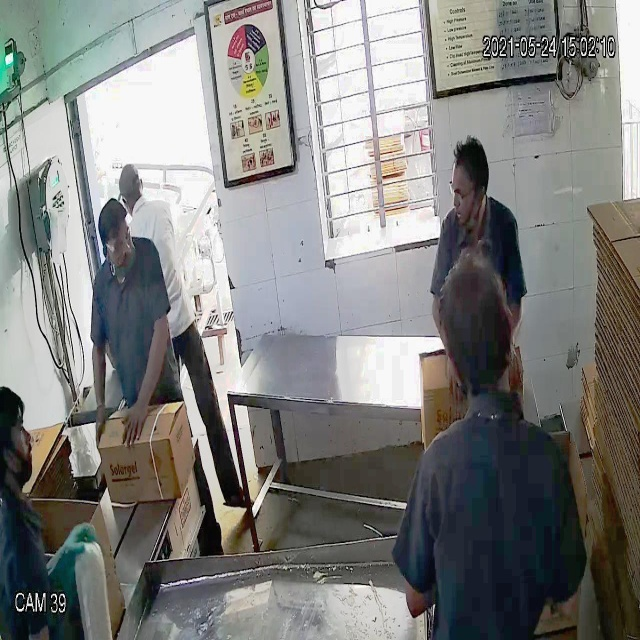Gafas: (99, 224, 136, 259), (448, 177, 486, 207)
